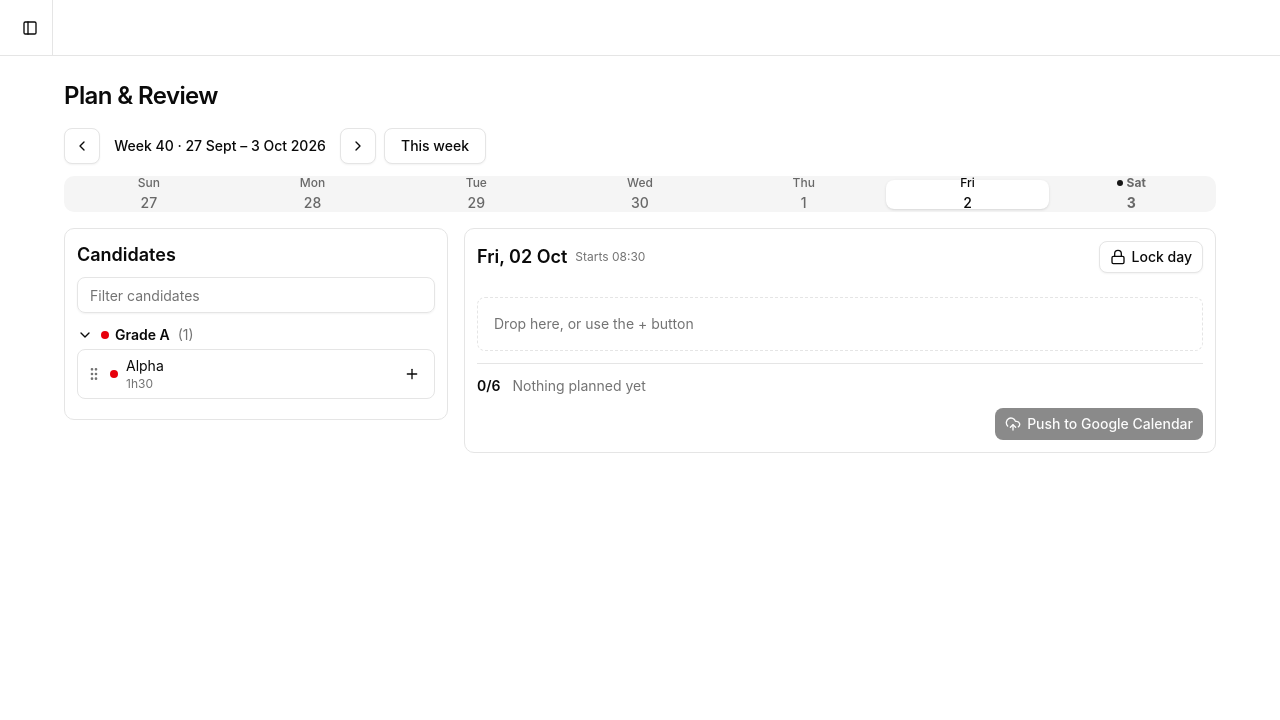
it: Plan & Review: building the day › prefills the prompt with the item estimate
Click the button named "Add “Alpha” to the plan" at point(412, 374), box [398,360,426,388]
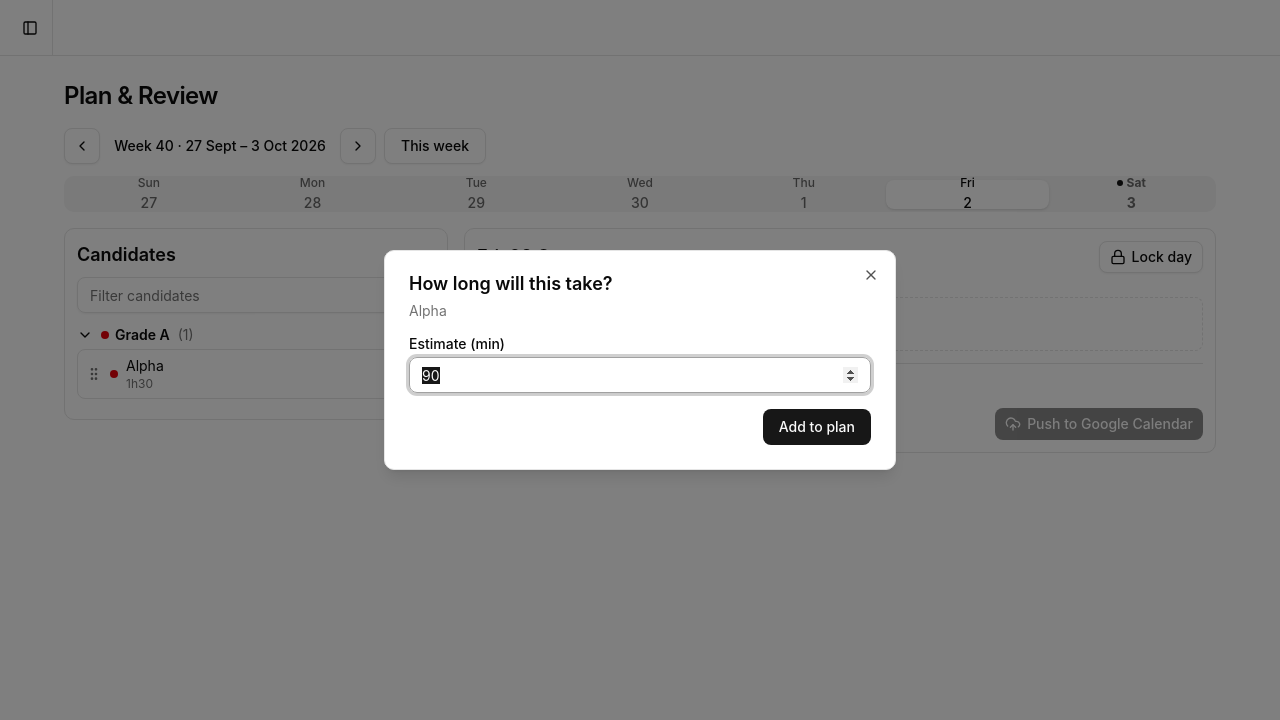
Result: the number field labelled "Estimate (min)" holds "90" at [409,357,871,393]
